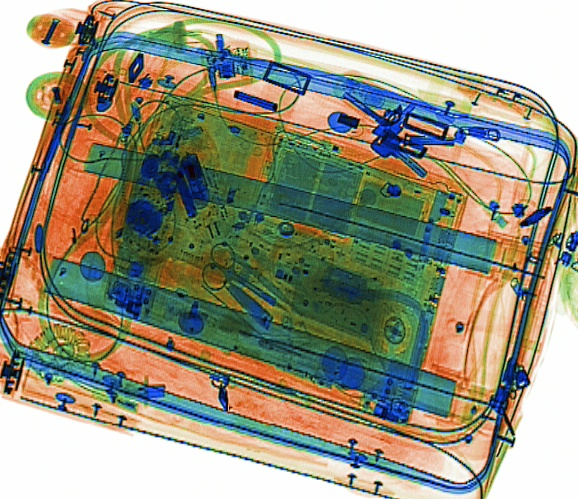scissors: (198, 240, 292, 317)
